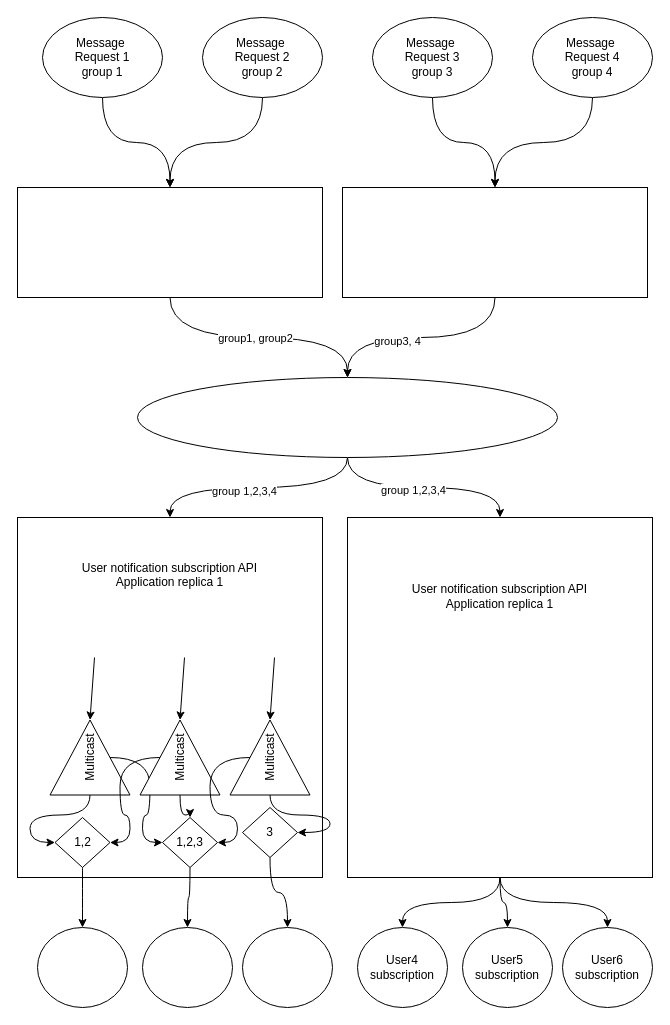
This 670x1025 diagram has some shape labels left out. The centre of each missing label's shape, as x and y in pixels:
"Api for Group message Application replica 1" belongs at pixel 169 242.
"Api for Group message Application replica2" belongs at pixel 495 242.
"Broker" belongs at pixel 347 417.
"User1 subscription" belongs at pixel 82 967.
"User2 subscription" belongs at pixel 187 967.
"User3 subscription" belongs at pixel 287 967.
